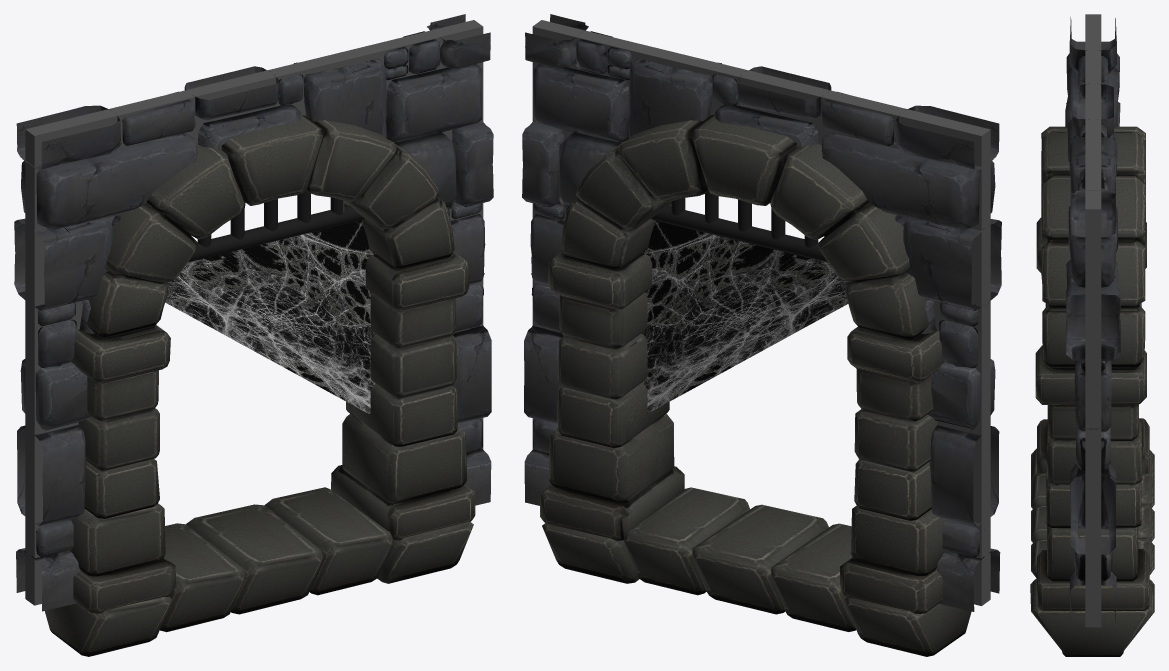
The model's file is Archway_Bars_Cobwebs.fbx.
The picture shows the model from 3 angles, left to right: view 1: azimuth 30°, elevation 25°; view 2: azimuth 150°, elevation 25°; view 3: azimuth 270°, elevation 25°; orthographic projection. The views are drawn at different scales.
Parts seen in each view (by area): view 1: Arch_05_Bars_Cobwebs; view 2: Arch_05_Bars_Cobwebs; view 3: Arch_05_Bars_Cobwebs.
Part boxes in pixels (x1,y1,x2,y2): Arch_05_Bars_Cobwebs: [14, 14, 493, 656]; Arch_05_Bars_Cobwebs: [522, 14, 1001, 656]; Arch_05_Bars_Cobwebs: [1030, 14, 1154, 656].
Size of the model in its own units: 302 by 334 by 80.96.
